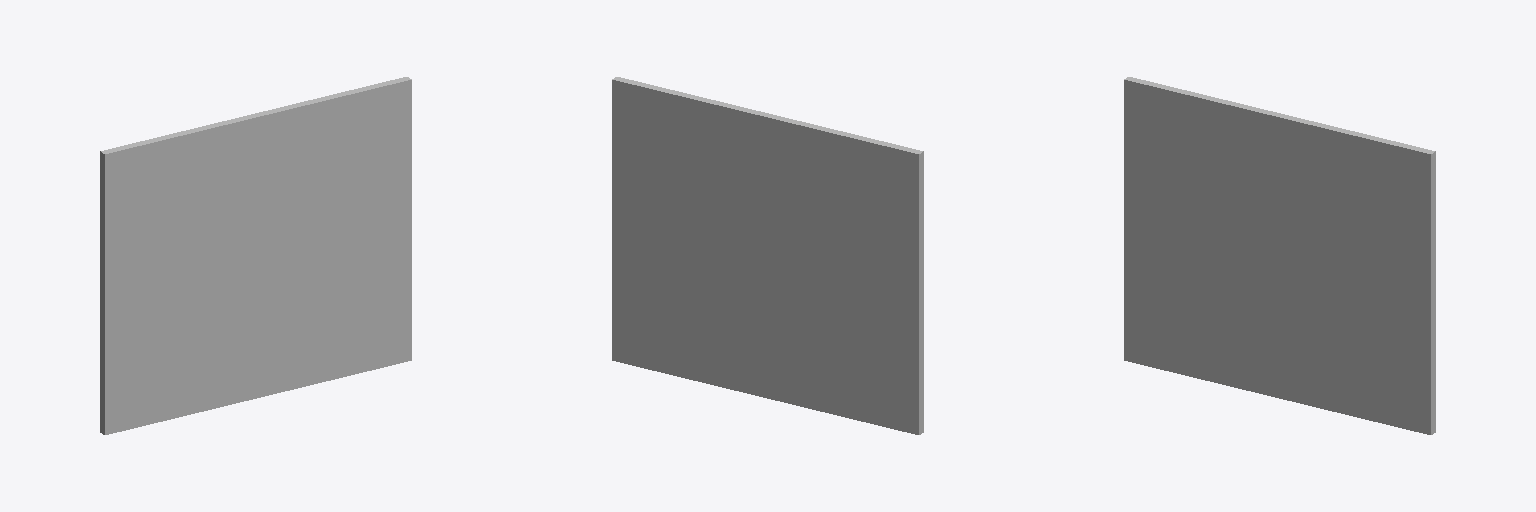
Rendered from oldpainting5.obj.
3 renders of one model, left to right at view 1: azimuth 30°, elevation 25°; view 2: azimuth 150°, elevation 25°; view 3: azimuth 330°, elevation 25°, orthographic.
Visible parts, largest first — view 1: Regroup21; view 2: Regroup21; view 3: Regroup21.
Boxes of the visible parts, x1=… form: Regroup21: x1=100, y1=77, x2=411, y2=434; Regroup21: x1=612, y1=77, x2=923, y2=434; Regroup21: x1=1124, y1=77, x2=1435, y2=434.
Size of the model in its own units: 39.97 by 34.98 by 0.9844.